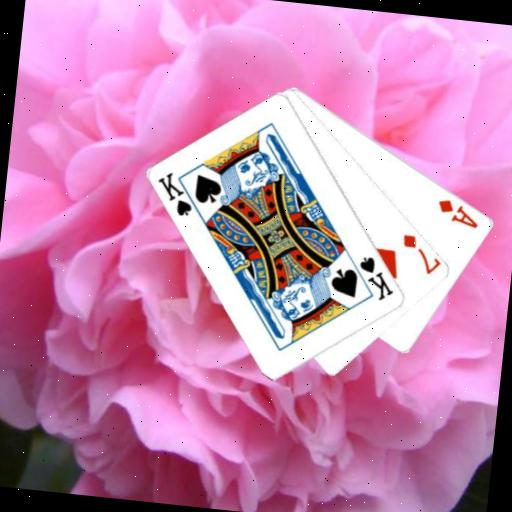7D: (396, 231, 444, 278)
AD: (433, 195, 483, 231)
KS: (152, 168, 207, 220), (353, 252, 399, 304)
